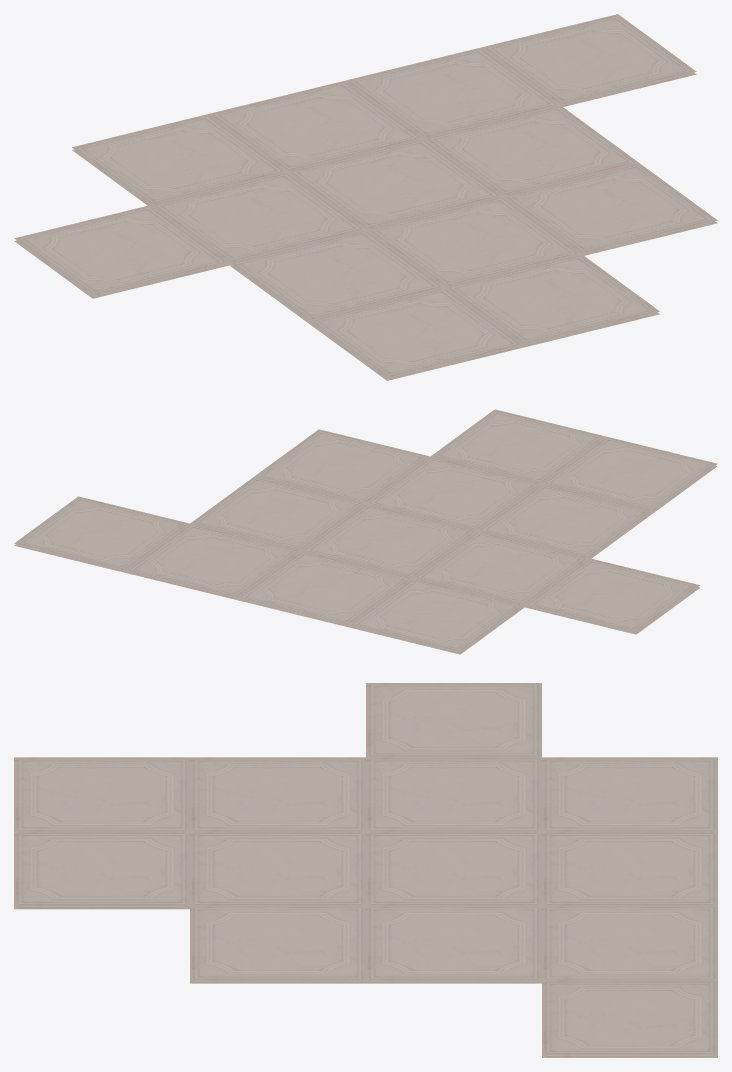
File: Homeworld_Interior_Fd_Room_K_Ceiling_01_Vo.fbx
3 views of the same model, one above another, from view 1: azimuth 30°, elevation 25°; view 2: azimuth 150°, elevation 25°; view 3: azimuth 270°, elevation 25° (orthographic). The views are drawn at different scales.
Visible parts, largest first — view 1: Homeworld_Interior_Fd_Room_K_Ceiling_01; view 2: Homeworld_Interior_Fd_Room_K_Ceiling_01; view 3: Homeworld_Interior_Fd_Room_K_Ceiling_01.
Part boxes in pixels (left/top/right/bottom): Homeworld_Interior_Fd_Room_K_Ceiling_01: left=14, top=14, right=717, bottom=380; Homeworld_Interior_Fd_Room_K_Ceiling_01: left=14, top=409, right=717, bottom=654; Homeworld_Interior_Fd_Room_K_Ceiling_01: left=14, top=683, right=717, bottom=1057.
Bounding box in the file's own units: 25 × 0.0962 × 20.
